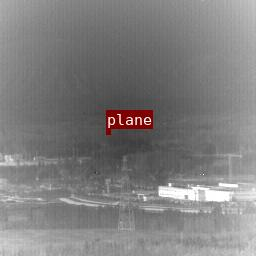plane: (106, 129, 110, 133)
